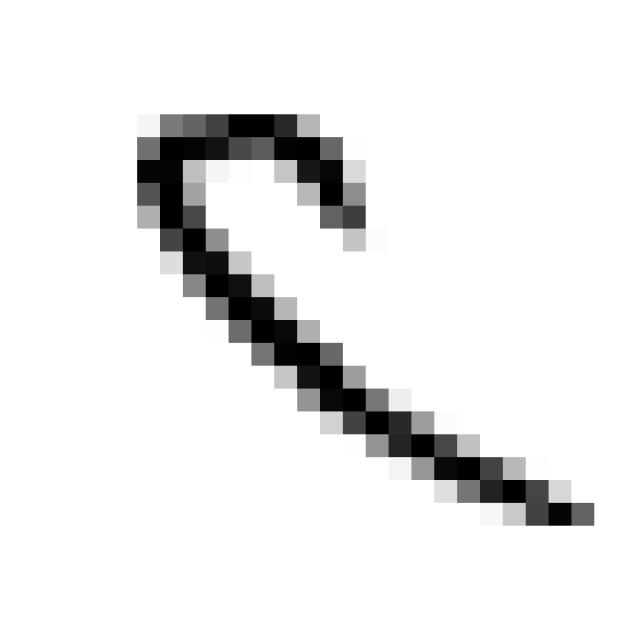2 -two-: (112, 85, 605, 547)
